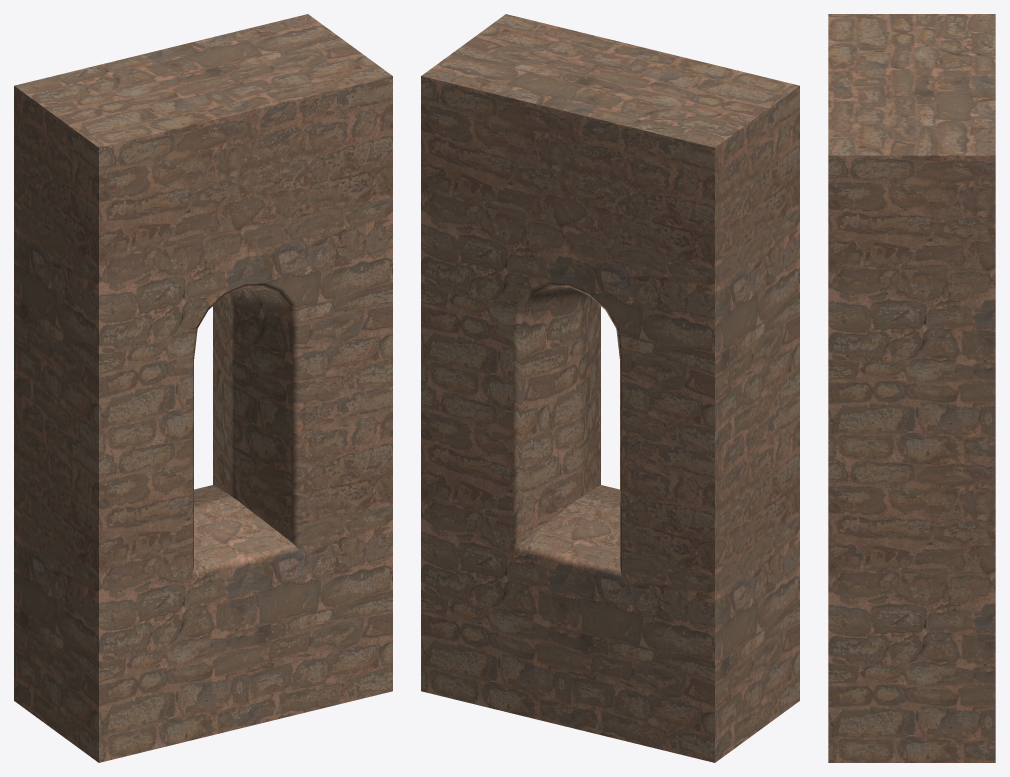
The model's file is WallSmall_SmallWindow.fbx.
3 renders of one model, left to right at view 1: azimuth 30°, elevation 25°; view 2: azimuth 150°, elevation 25°; view 3: azimuth 270°, elevation 25°, orthographic.
Parts seen in each view (by area): view 1: WallSmall_SmallWindow_LOD0; view 2: WallSmall_SmallWindow_LOD0; view 3: WallSmall_SmallWindow_LOD0.
Part boxes in pixels (x1=…): WallSmall_SmallWindow_LOD0: x1=14, y1=14, x2=392, y2=762; WallSmall_SmallWindow_LOD0: x1=421, y1=14, x2=799, y2=762; WallSmall_SmallWindow_LOD0: x1=828, y1=14, x2=995, y2=762.
Size of what is drawn, in the model's own units: 200 by 400 by 100.
